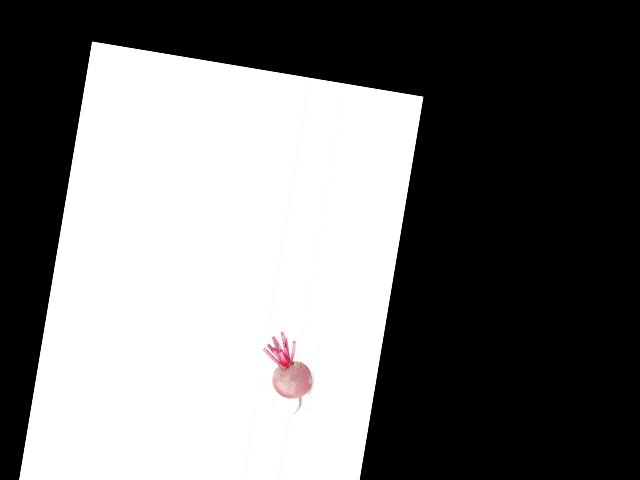beet: (253, 328, 319, 415)
